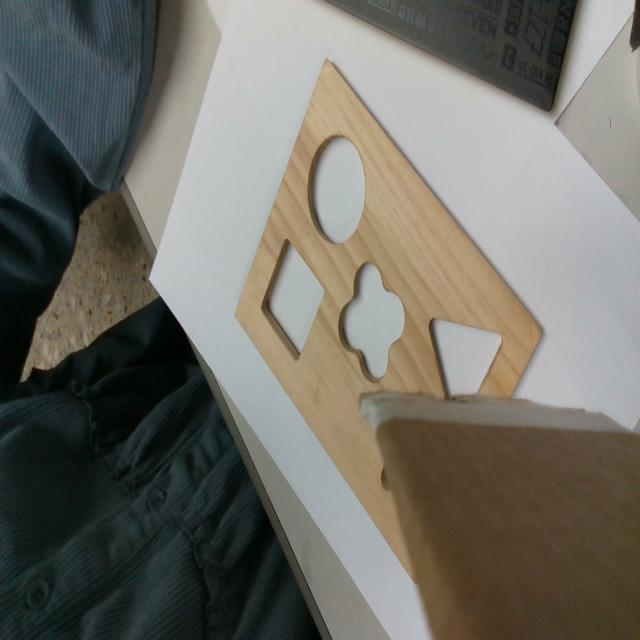circle: (310, 137, 365, 246)
flower: (337, 265, 405, 379)
square: (262, 238, 325, 359)
triangle: (427, 317, 505, 399)
